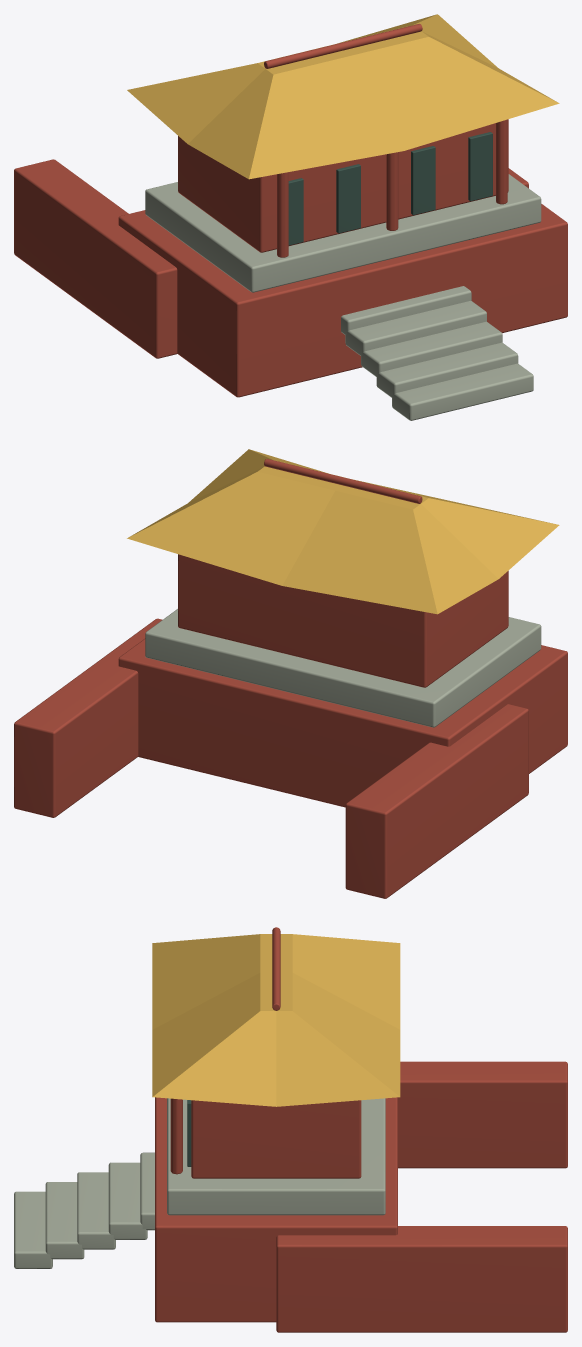
Rendered from mingxiaoling-before.glb.
3 views of the same model, one above another, from view 1: azimuth 30°, elevation 25°; view 2: azimuth 150°, elevation 25°; view 3: azimuth 270°, elevation 25° (orthographic).
Visible parts, largest first — view 1: Ming tower roof, citadel, enclosing wall, Ming tower plinth, Ming tower body, stairs, stairs.001, stairs.002, stairs.003, stairs.004, Ming tower door.001, Ming tower door.003 (+6 smaller); view 2: Ming tower roof, citadel, Ming tower body, enclosing wall, Ming tower plinth, enclosing wall.001, Ming tower roof ridge; view 3: Ming tower roof, enclosing wall.001, citadel, enclosing wall, Ming tower body, Ming tower plinth, stairs.001, stairs.003, stairs, stairs.002, stairs.004, Ming tower pillar.002 (+1 smaller).
Part boxes in pixels (x1,y1,x2,y2): Ming tower roof: (127,14,559,179); citadel: (118,204,567,397); enclosing wall: (14,159,177,358); Ming tower plinth: (145,174,541,292); Ming tower body: (178,119,508,252); stairs: (392,363,533,420); stairs.001: (376,342,518,397); stairs.002: (361,321,502,376); stairs.003: (345,301,486,355); stairs.004: (341,286,471,334); Ming tower door.001: (336,164,360,233); Ming tower door.003: (468,132,492,201); Ming tower roof: (127,449,559,614); citadel: (118,638,567,807); Ming tower body: (178,554,508,687); enclosing wall: (345,704,528,898); Ming tower plinth: (145,609,541,727); enclosing wall.001: (14,618,162,817); Ming tower roof ridge: (264,458,422,503); Ming tower roof: (152,934,400,1106); enclosing wall.001: (276,1226,567,1332); citadel: (155,1097,397,1322); enclosing wall: (398,1061,567,1168); Ming tower body: (191,1100,361,1178); Ming tower plinth: (167,1098,385,1215); stairs.001: (45,1182,84,1259); stairs.003: (108,1162,147,1239); stairs: (14,1191,52,1268); stairs.002: (77,1172,115,1249); stairs.004: (140,1152,154,1230); Ming tower pillar.002: (170,1098,182,1174).
Bounding box in the file's own units: 9 × 6.27 × 11.4.
